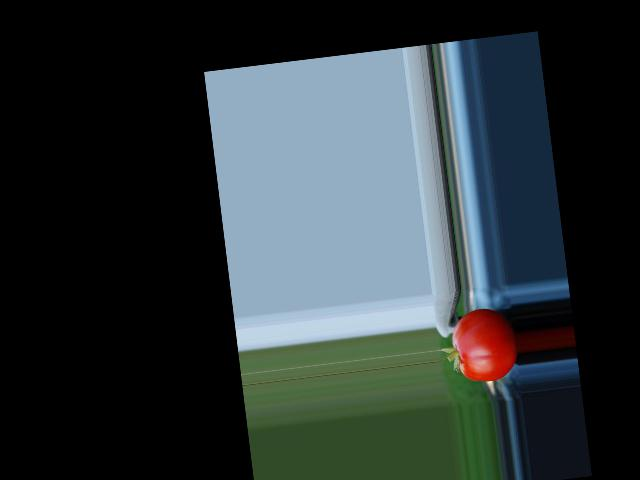tomato: (448, 305, 521, 385)
